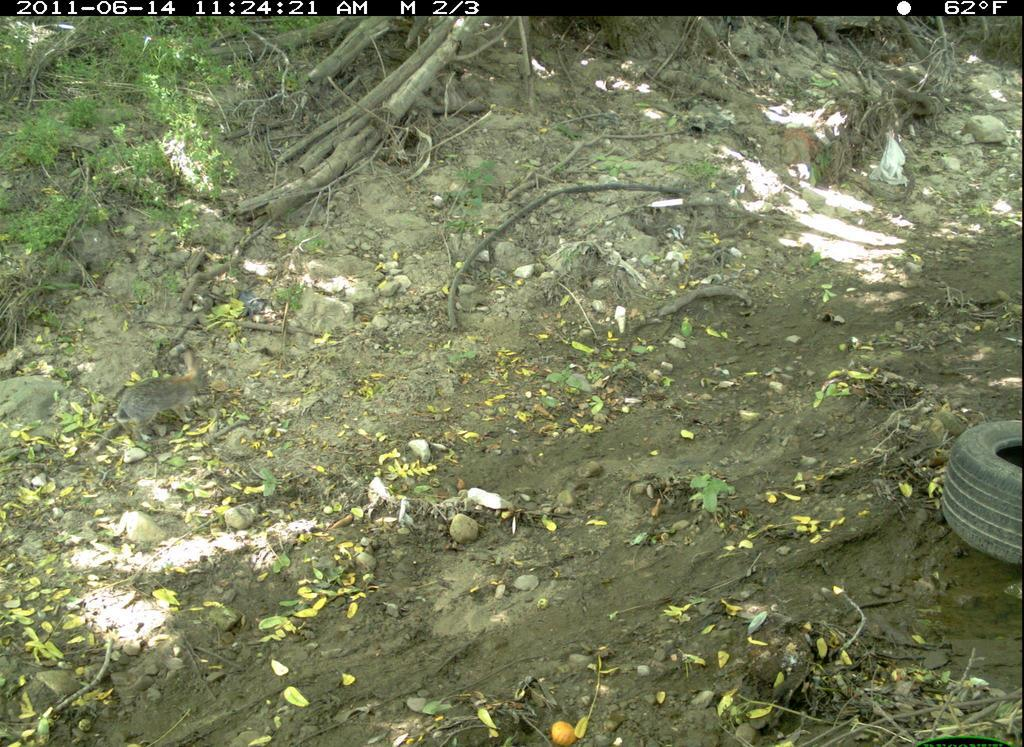rabbit: (105, 351, 226, 445)
